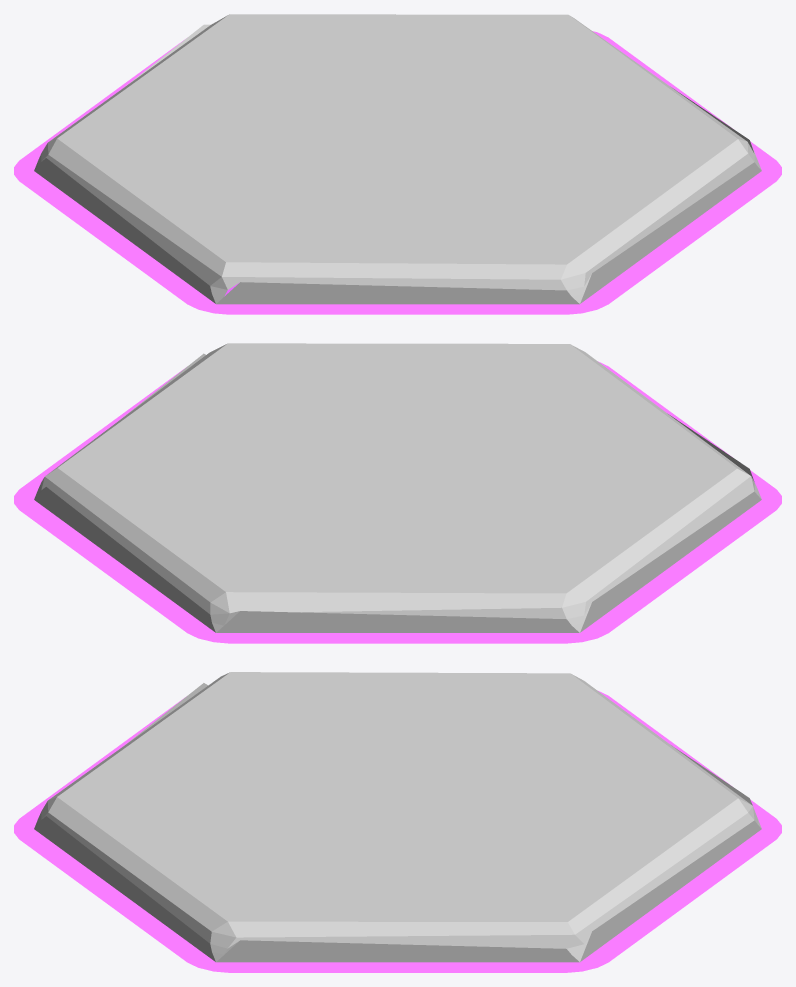
Rendered from hexagon.glb.
The picture shows the model from 3 angles, top to bottom: view 1: azimuth 30°, elevation 25°; view 2: azimuth 150°, elevation 25°; view 3: azimuth 270°, elevation 25°; orthographic projection.
Parts seen in each view (by area): view 1: hexagon; view 2: hexagon; view 3: hexagon.
Boxes of the visible parts, x1,y1,x2,y2 form: hexagon: (14, 14, 781, 314); hexagon: (14, 343, 781, 643); hexagon: (14, 672, 781, 972).
Bounding box in the file's own units: 1.73 × 0.0909 × 1.95.
